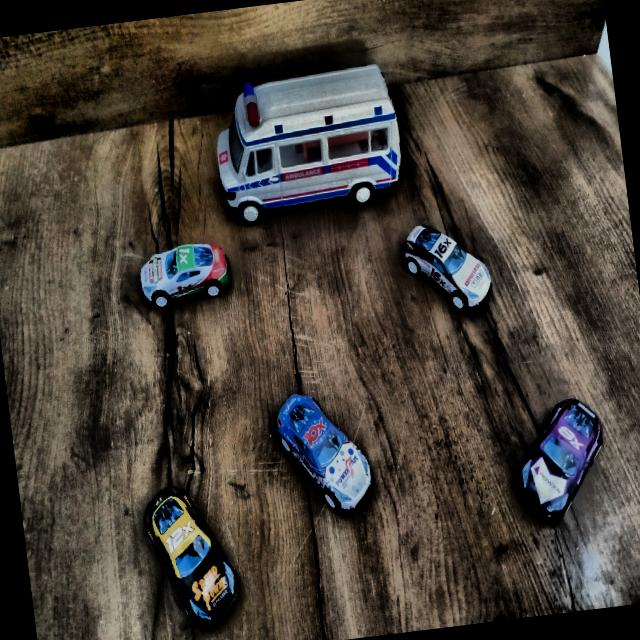Ambulance: (208, 59, 409, 222)
Car: (137, 477, 248, 640), (501, 390, 617, 532), (274, 382, 378, 520), (397, 207, 494, 322), (136, 238, 235, 309)
